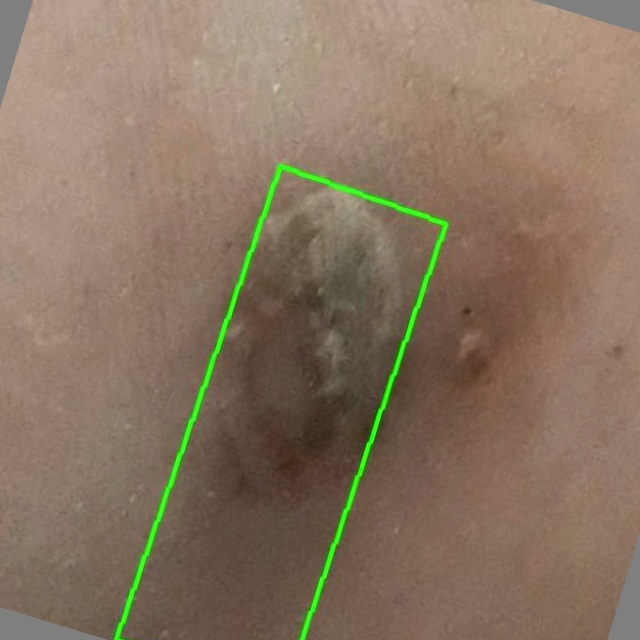Eczema: (115, 167, 445, 639)
